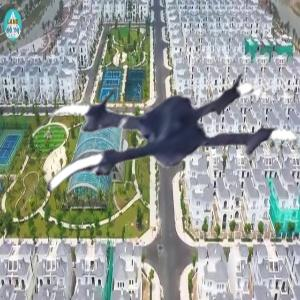drone: (43, 33, 294, 284)
